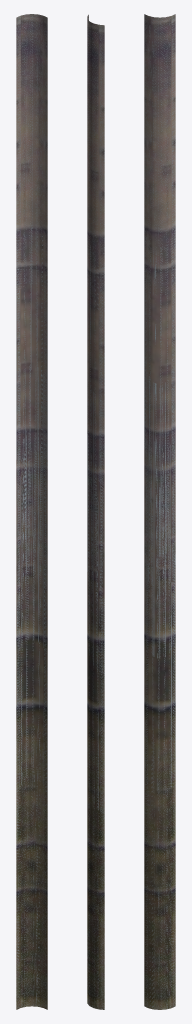
The model's file is 大本钟2.dae.
The picture shows the model from 3 angles, left to right: view 1: azimuth 90°, elevation 25°; view 2: azimuth 210°, elevation 25°; view 3: azimuth 270°, elevation 25°; orthographic projection.
Parts seen in each view (by area): view 1: SketchUp; view 2: SketchUp; view 3: SketchUp.
Part boxes in pixels (left/top/right/bottom): SketchUp: left=16, top=14, right=47, bottom=1009; SketchUp: left=87, top=14, right=104, bottom=1009; SketchUp: left=144, top=14, right=175, bottom=1009.
Size of the model in its own units: 14.7 by 53.68 by 1891.
Materials: 2 (1 with a texture image).
